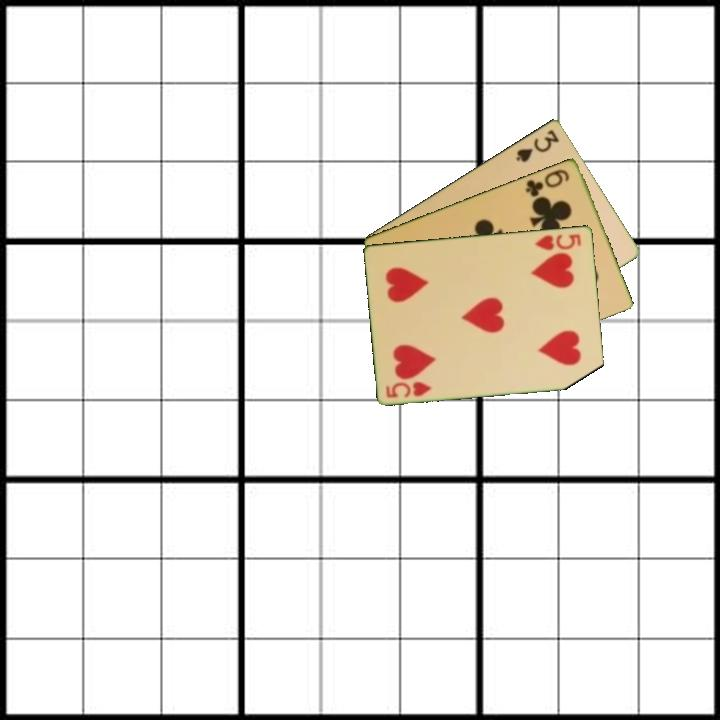3s: (512, 126, 562, 165)
5h: (532, 230, 584, 253), (382, 378, 434, 400)
6c: (522, 165, 572, 199)
